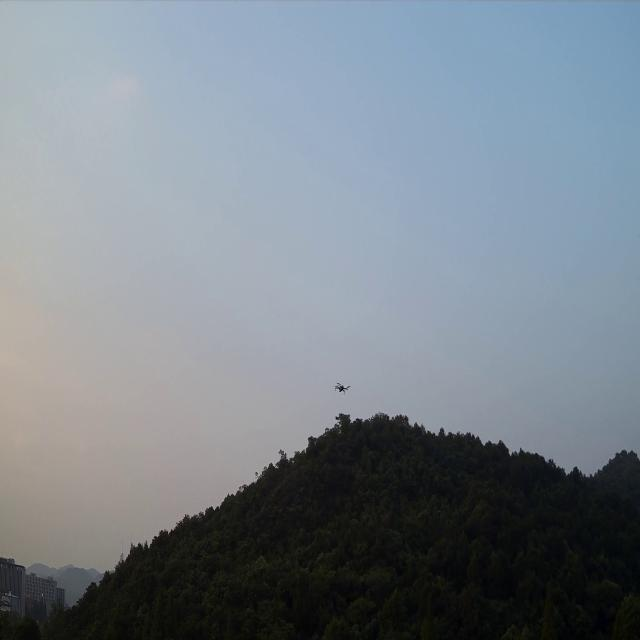UAV: (333, 380, 350, 396)
